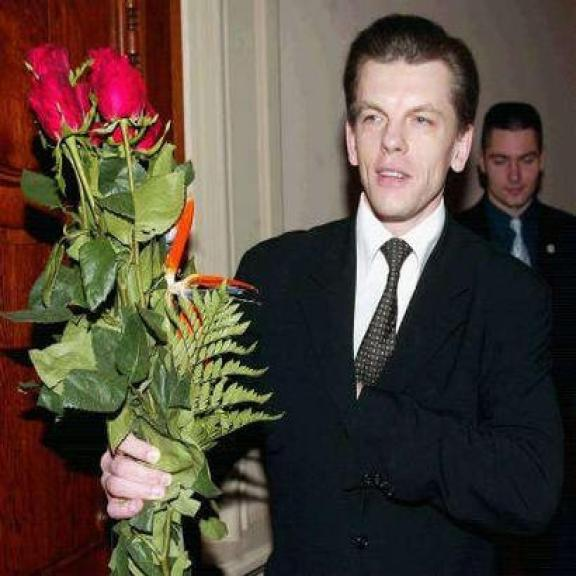face: (343, 57, 474, 221), (480, 123, 547, 209)
